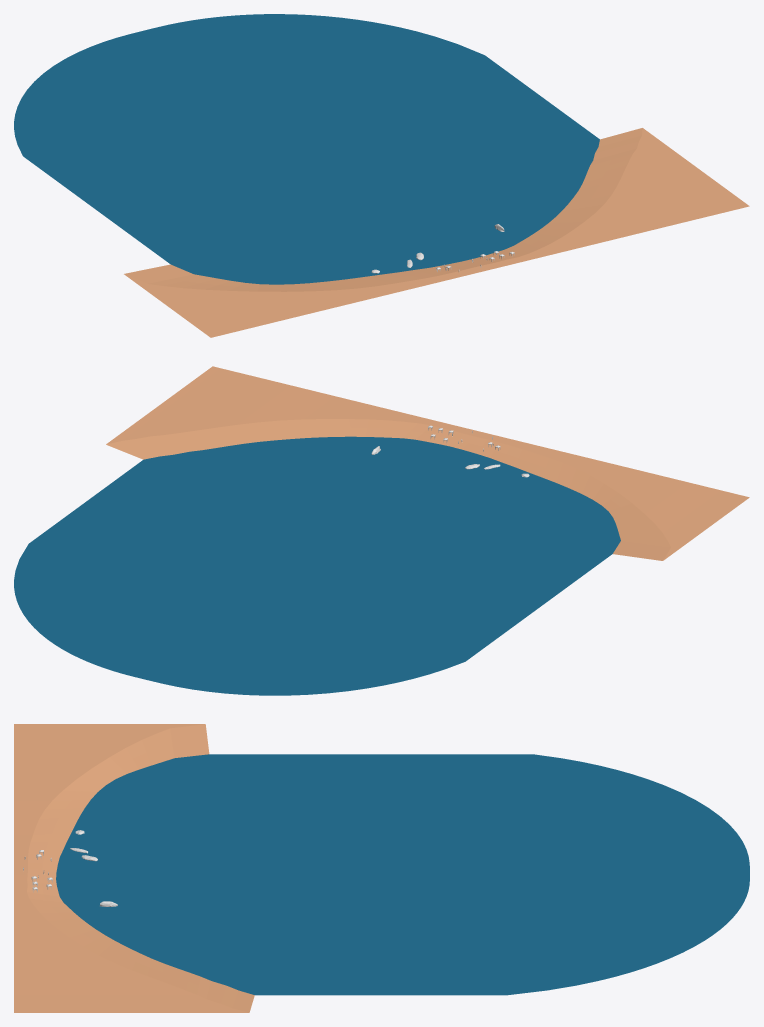
The model's file is mar_azul.fbx.
3 views of the same model, one above another, from view 1: azimuth 30°, elevation 25°; view 2: azimuth 150°, elevation 25°; view 3: azimuth 270°, elevation 25° (orthographic). The views are drawn at different scales.
Parts seen in each view (by area): view 1: praia mar, praia areia; view 2: praia mar, praia areia; view 3: praia mar, praia areia.
Part boxes in pixels (x1,y1,x2,y2): praia mar: [14, 14, 621, 288]; praia areia: [124, 128, 749, 337]; praia mar: [14, 428, 645, 695]; praia areia: [106, 366, 749, 560]; praia mar: [42, 739, 749, 1003]; praia areia: [14, 724, 251, 1012].
Size of the model in its own units: 31212 by 599 by 33627.
